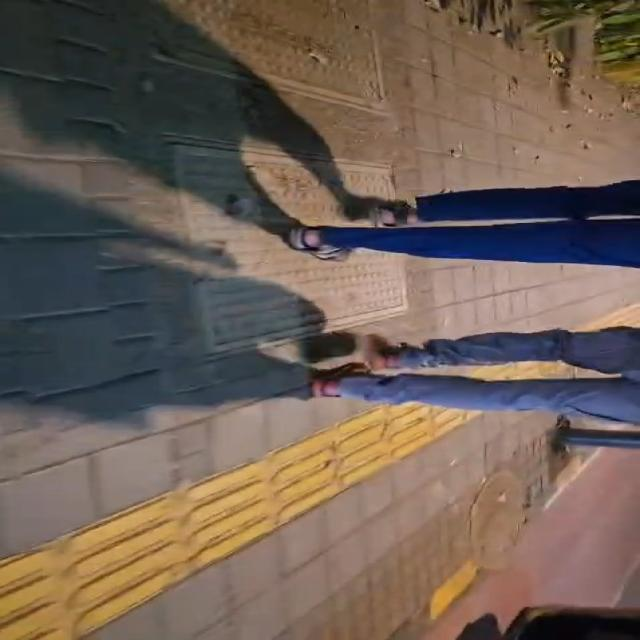bike: (310, 327, 639, 424), (288, 180, 639, 267), (470, 471, 524, 569)
